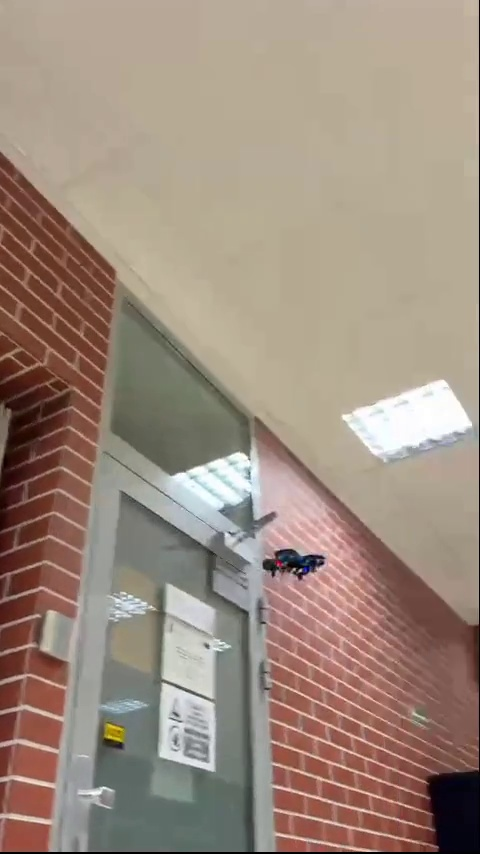drone: (262, 544, 325, 589)
